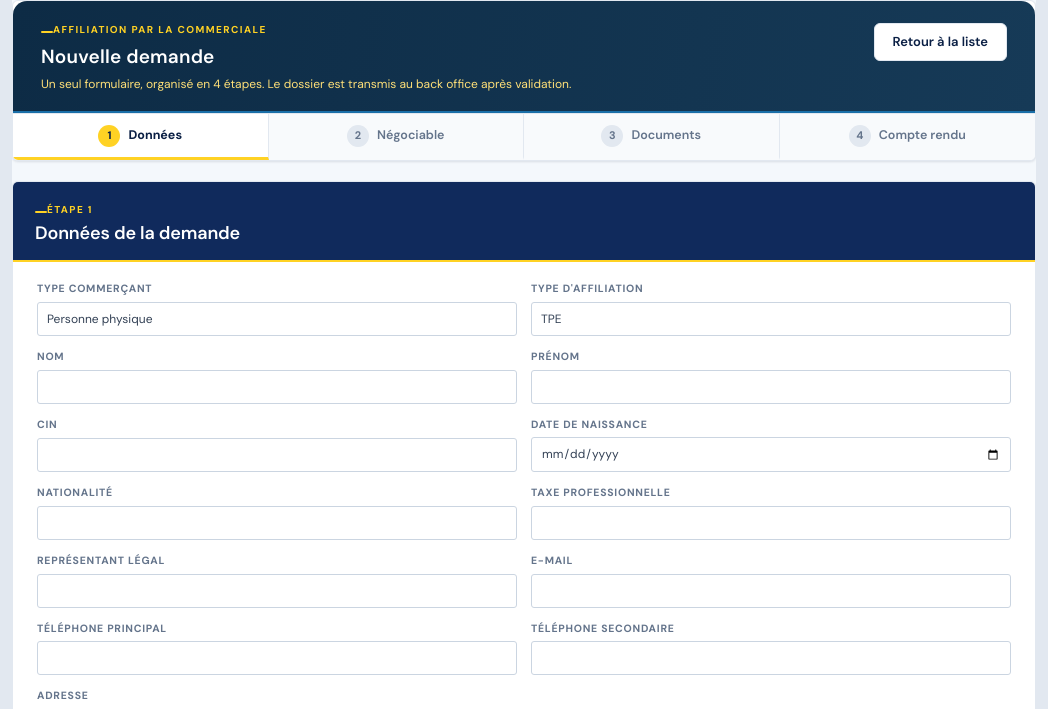
Test: CommercialDossierCreatePage › affiche la liste des documents requis pour une personne physique
What coordinates should you click on to do the following:
click the button "3 Documents"
I would click on:
 (652, 137)
Its box is [524, 114, 780, 160].
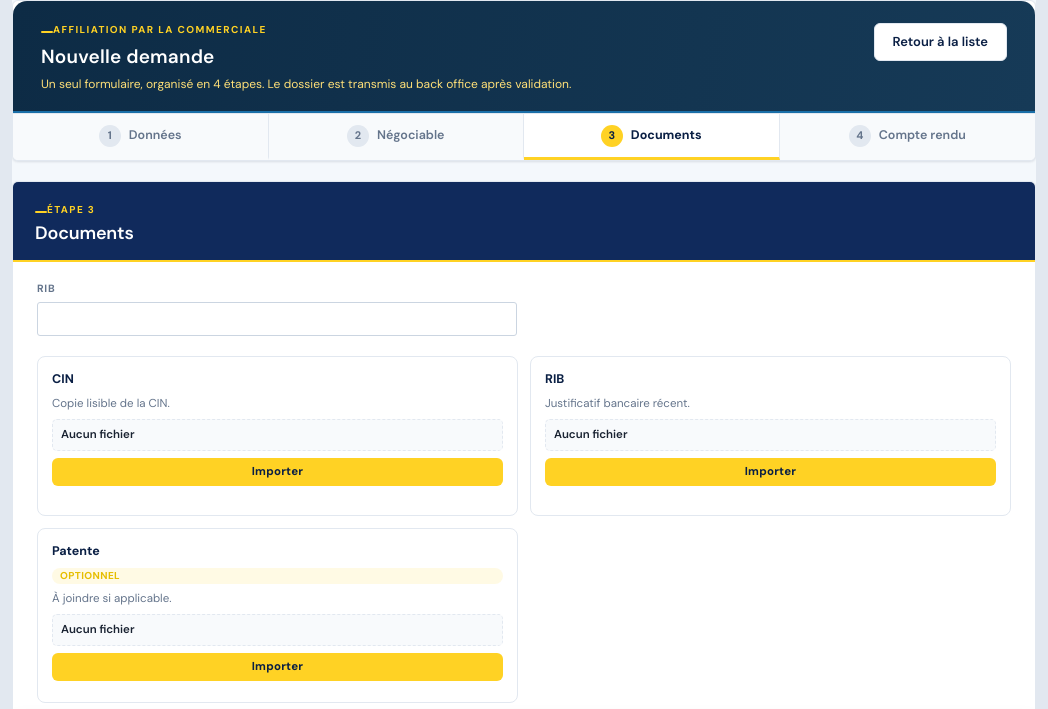
Expected: the text "CIN" is shown, [52, 371, 74, 387]
Expected: the 1st text "RIB" is shown, [37, 282, 55, 295]
